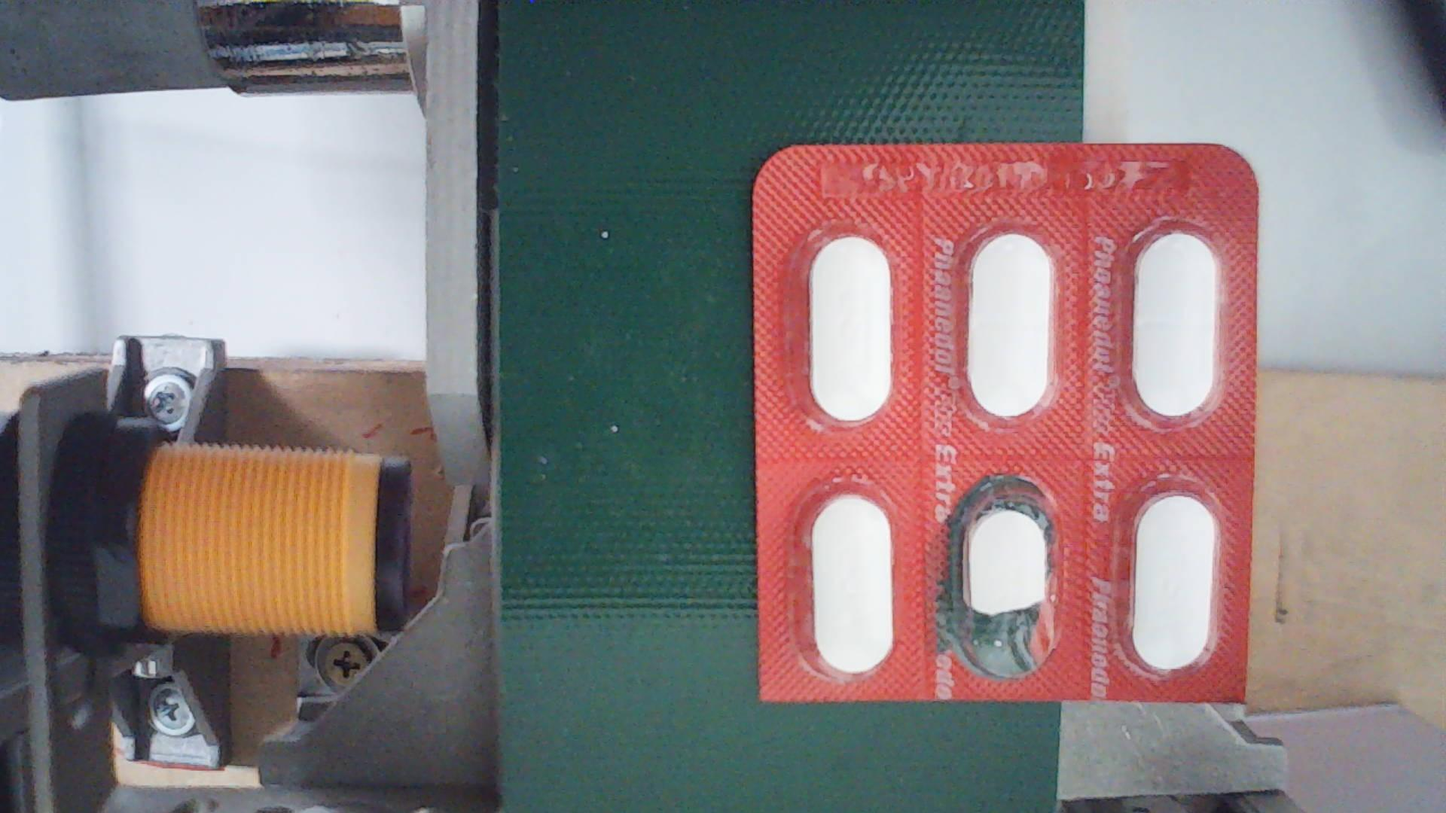Full: (1116, 204, 1235, 440), (794, 208, 913, 443), (945, 200, 1064, 435), (1117, 455, 1236, 690), (792, 455, 911, 690)
Partial: (945, 461, 1064, 697)
